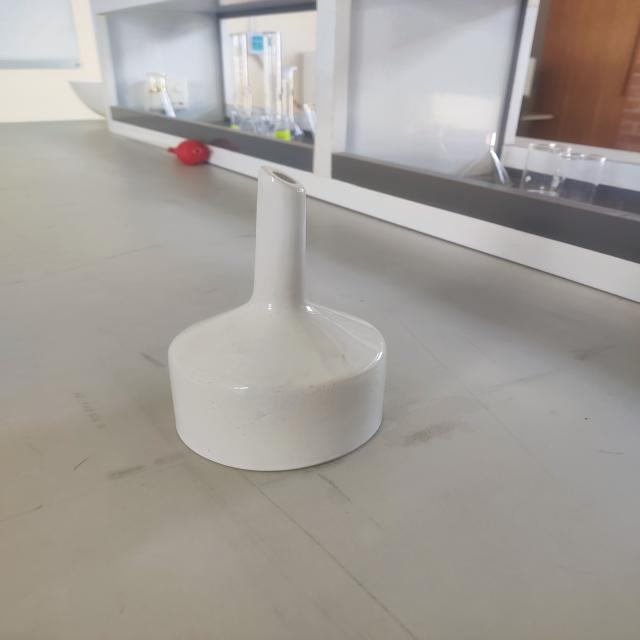Buchner_Funnel: (111, 144, 442, 496)
